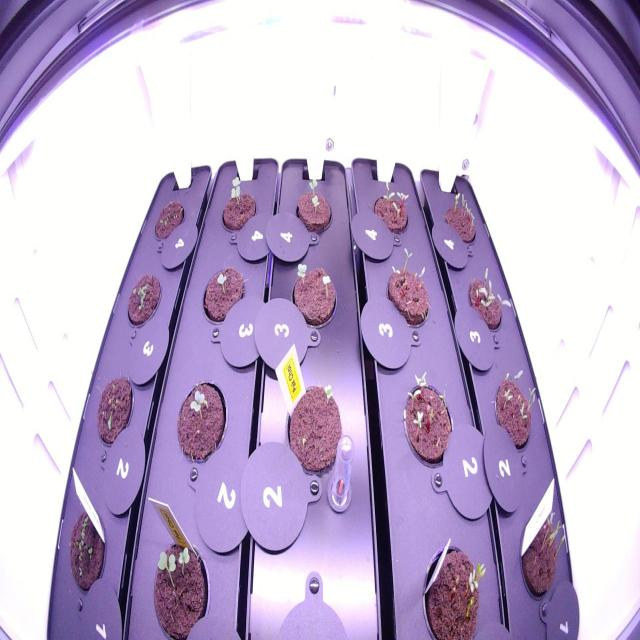germination: (414, 534, 491, 637), (145, 530, 214, 638), (511, 492, 572, 614), (167, 371, 235, 473), (280, 374, 344, 481), (396, 361, 458, 470), (487, 361, 548, 462), (459, 260, 519, 345), (280, 253, 341, 335), (382, 242, 436, 333), (60, 502, 109, 601), (198, 258, 251, 336), (90, 368, 137, 454), (287, 172, 338, 245), (366, 172, 415, 242), (212, 168, 261, 238), (438, 184, 483, 257), (123, 268, 165, 332), (149, 192, 187, 248)
